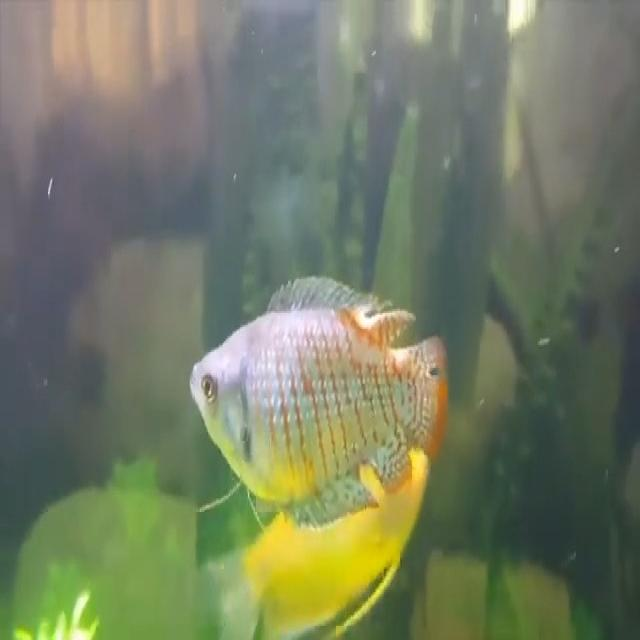fish: (187, 274, 453, 528)
